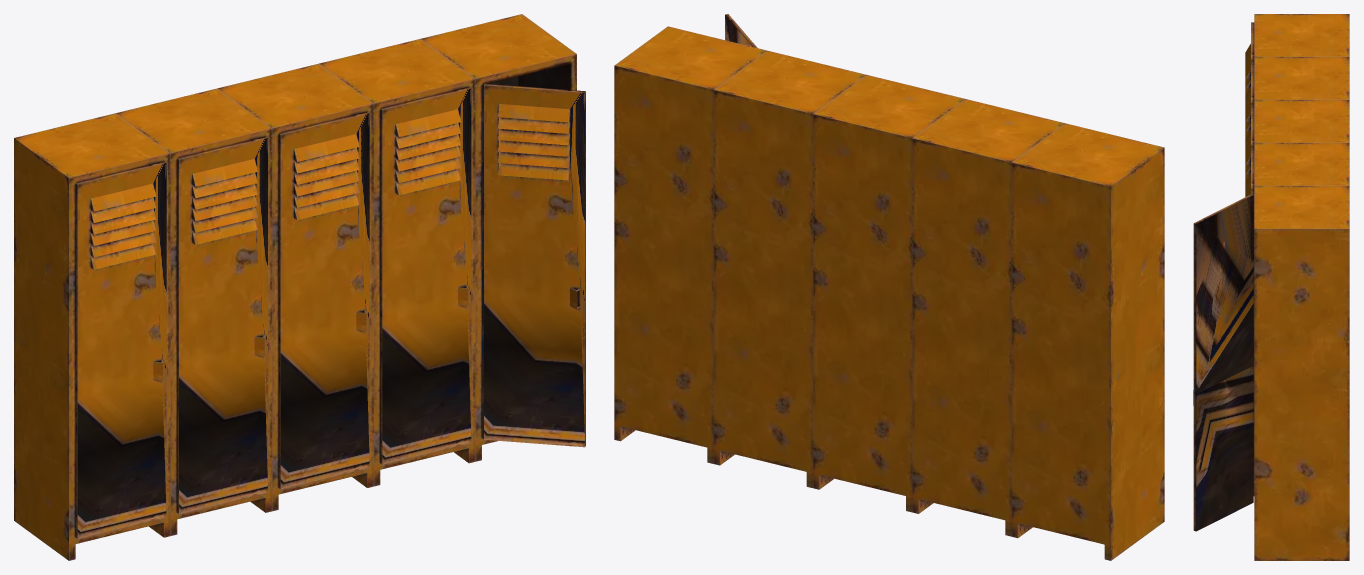
The model's file is locker-row-orange.glb.
3 views of the same model, side by side, from view 1: azimuth 30°, elevation 25°; view 2: azimuth 150°, elevation 25°; view 3: azimuth 270°, elevation 25° (orthographic). The views are drawn at different scales.
Visible parts, largest first — view 1: Door001_Steel_locker _0, Door005_Steel_locker _0, Door002_Steel_locker _0, Door003_Steel_locker _0, Door004_Steel_locker _0, Steel_locker004, Steel_locker003, Steel_locker001, Steel_locker002, Steel_locker; view 2: Steel_locker004, Steel_locker001, Steel_locker003, Steel_locker, Steel_locker002; view 3: Steel_locker, Door001_Steel_locker _0, Steel_locker001, Steel_locker002, Steel_locker003, Steel_locker004, Door002_Steel_locker _0, Door005_Steel_locker _0, Door003_Steel_locker _0, Door004_Steel_locker _0.
Boxes of the visible parts, box(x1,y1,x2,y2) form: Door001_Steel_locker _0: box(484, 83, 585, 447); Door005_Steel_locker _0: box(75, 161, 166, 538); Door002_Steel_locker _0: box(380, 87, 471, 464); Door003_Steel_locker _0: box(278, 111, 369, 489); Door004_Steel_locker _0: box(177, 136, 267, 513); Steel_locker004: box(14, 113, 170, 560); Steel_locker003: box(116, 88, 272, 535); Steel_locker001: box(319, 39, 475, 486); Steel_locker002: box(217, 63, 373, 511); Steel_locker: box(421, 14, 576, 461); Steel_locker004: box(1011, 123, 1164, 560); Steel_locker001: box(713, 50, 866, 487); Steel_locker003: box(912, 99, 1064, 536); Steel_locker: box(614, 26, 766, 463); Steel_locker002: box(813, 75, 965, 512); Steel_locker: box(1254, 186, 1349, 560); Door001_Steel_locker _0: box(1193, 194, 1253, 531); Steel_locker001: box(1254, 143, 1349, 185); Steel_locker002: box(1254, 100, 1349, 142); Steel_locker003: box(1254, 57, 1349, 99); Steel_locker004: box(1254, 14, 1349, 56); Door002_Steel_locker _0: box(1245, 151, 1254, 495); Door005_Steel_locker _0: box(1245, 22, 1254, 94); Door003_Steel_locker _0: box(1245, 108, 1254, 180); Door004_Steel_locker _0: box(1245, 65, 1254, 137).
Size of the model in its own units: 2.57 by 1.85 by 0.7891.
Materials: 1 (1 with a texture image).
